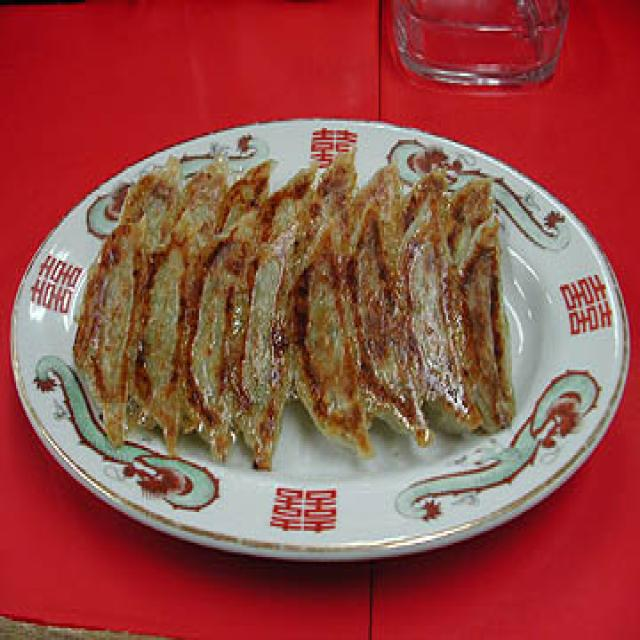带馅早点: (84, 133, 519, 457)
